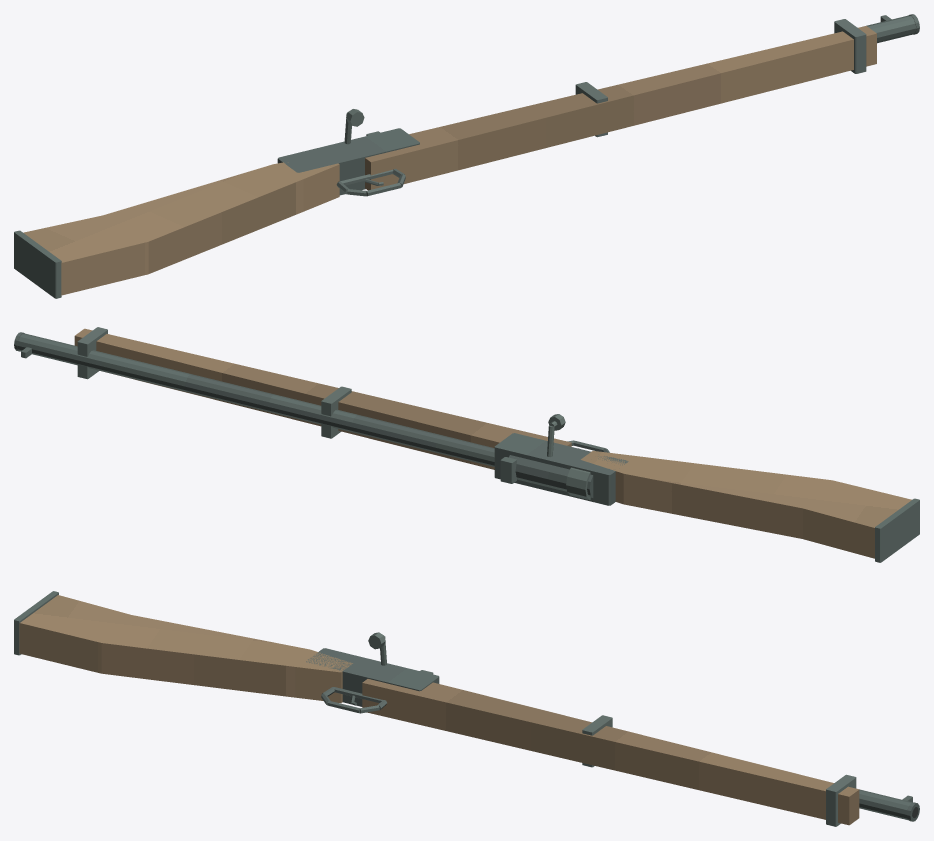
Rendered from weapon-arisaka-38.glb.
3 views of the same model, one above another, from view 1: azimuth 30°, elevation 25°; view 2: azimuth 150°, elevation 25°; view 3: azimuth 330°, elevation 25° (orthographic). The views are drawn at different scales.
Visible parts, largest first — view 1: weapon-arisaka-38/tapered-full-depth-forend, weapon-arisaka-38/shaped-solid-butt, weapon-arisaka-38/central-receiver, weapon-arisaka-38/butt-end-plate, weapon-arisaka-38/stock-band-1, weapon-arisaka-38/long-barrel; view 2: weapon-arisaka-38/shaped-solid-butt, weapon-arisaka-38/tapered-full-depth-forend, weapon-arisaka-38/long-barrel, weapon-arisaka-38/central-receiver, weapon-arisaka-38/butt-end-plate, weapon-arisaka-38/receiver-top-cylinder, weapon-arisaka-38/stock-band-1, weapon-arisaka-38/stock-band-0, weapon-arisaka-38/rounded-bolt-end; view 3: weapon-arisaka-38/tapered-full-depth-forend, weapon-arisaka-38/shaped-solid-butt, weapon-arisaka-38/central-receiver, weapon-arisaka-38/long-barrel, weapon-arisaka-38/stock-band-1, weapon-arisaka-38/butt-end-plate.
Boxes of the visible parts, x1,y1,x2,y2 form: weapon-arisaka-38/tapered-full-depth-forend: (365, 26, 876, 190); weapon-arisaka-38/shaped-solid-butt: (23, 162, 339, 295); weapon-arisaka-38/central-receiver: (277, 128, 419, 195); weapon-arisaka-38/butt-end-plate: (14, 230, 61, 298); weapon-arisaka-38/stock-band-1: (834, 19, 866, 73); weapon-arisaka-38/long-barrel: (866, 15, 916, 43); weapon-arisaka-38/shaped-solid-butt: (581, 451, 911, 558); weapon-arisaka-38/tapered-full-depth-forend: (74, 328, 571, 469); weapon-arisaka-38/long-barrel: (17, 333, 494, 466); weapon-arisaka-38/central-receiver: (494, 433, 628, 505); weapon-arisaka-38/butt-end-plate: (875, 498, 919, 562); weapon-arisaka-38/receiver-top-cylinder: (509, 455, 593, 497); weapon-arisaka-38/stock-band-1: (77, 327, 107, 379); weapon-arisaka-38/stock-band-0: (321, 386, 351, 438); weapon-arisaka-38/rounded-bolt-end: (566, 467, 590, 499); weapon-arisaka-38/tapered-full-depth-forend: (362, 679, 859, 825); weapon-arisaka-38/shaped-solid-butt: (19, 595, 352, 702); weapon-arisaka-38/central-receiver: (306, 648, 439, 706); weapon-arisaka-38/long-barrel: (859, 789, 912, 820); weapon-arisaka-38/stock-band-1: (826, 774, 856, 826); weapon-arisaka-38/butt-end-plate: (14, 591, 58, 655).
Size of the model in its own units: 1.28 by 0.1 by 0.1515.
Materials: 3 (3 with a texture image).
